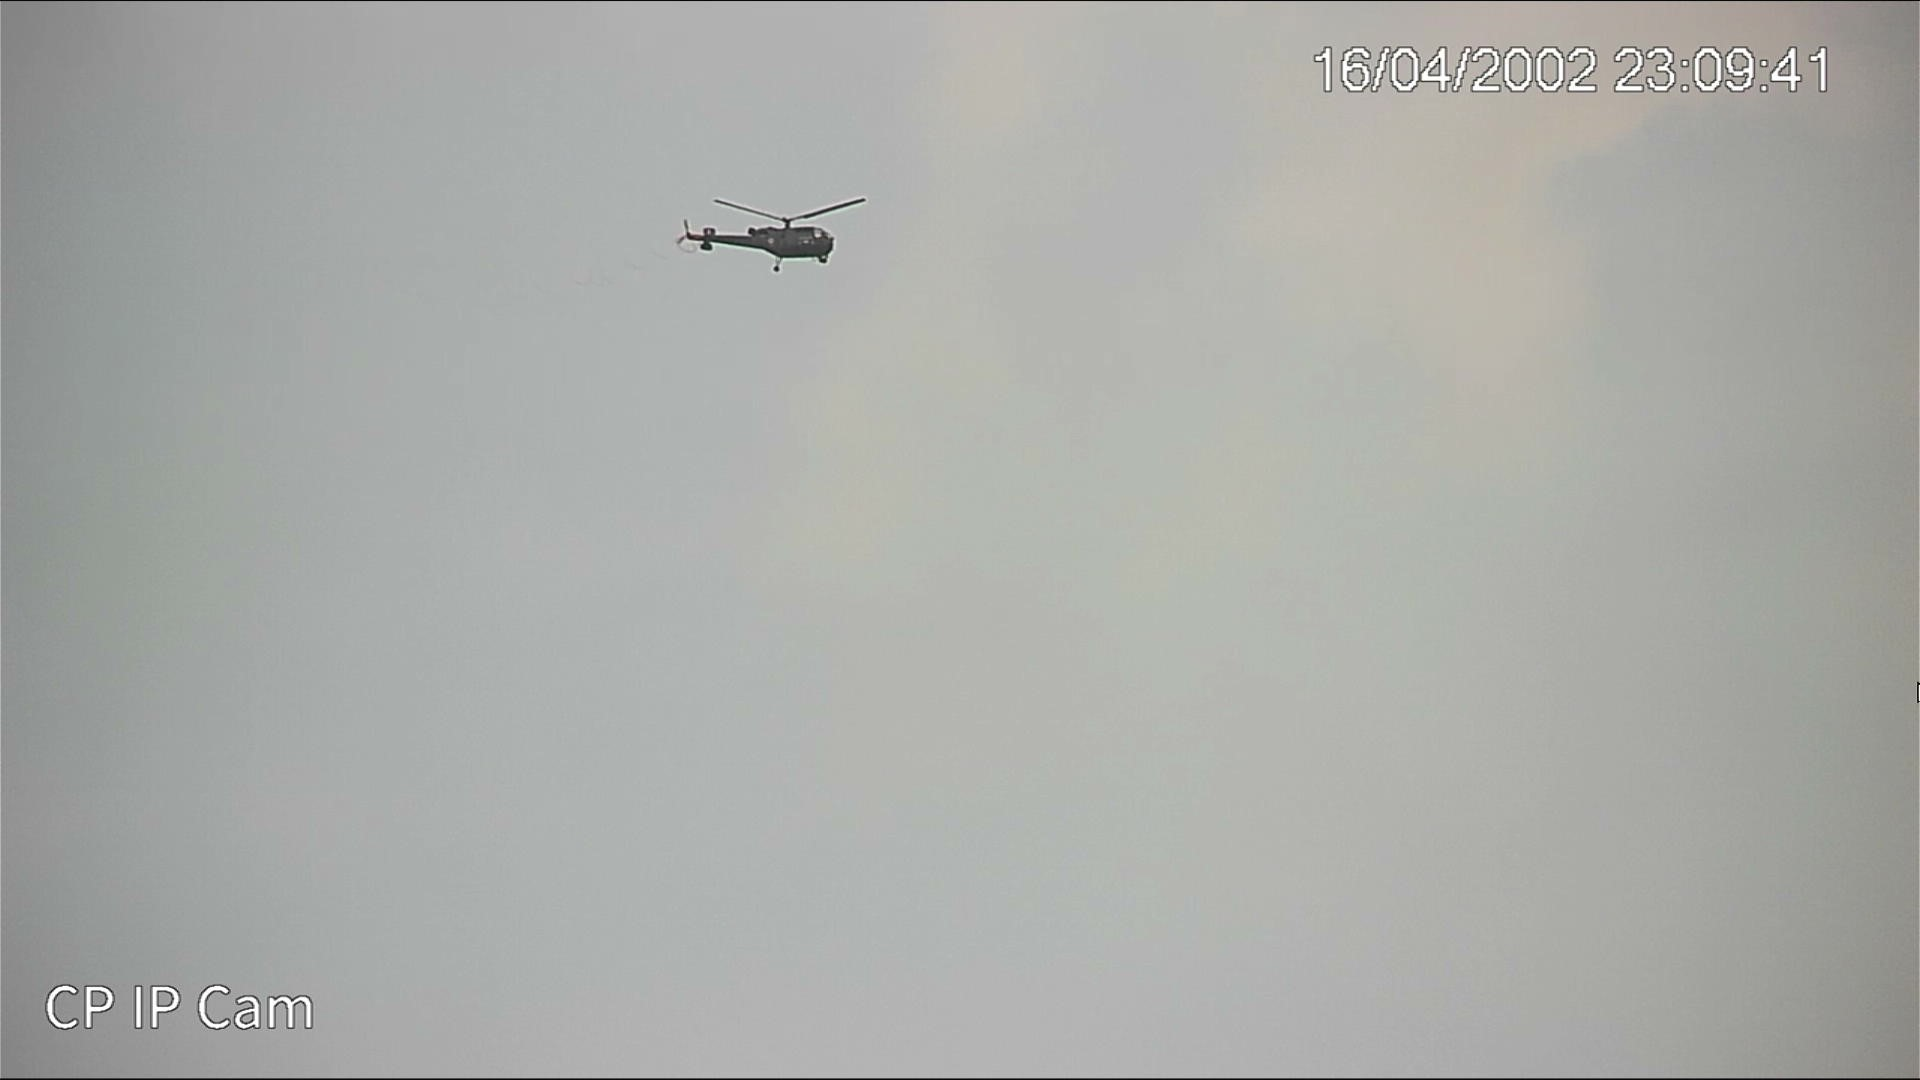SU_30: (673, 207, 833, 278)
